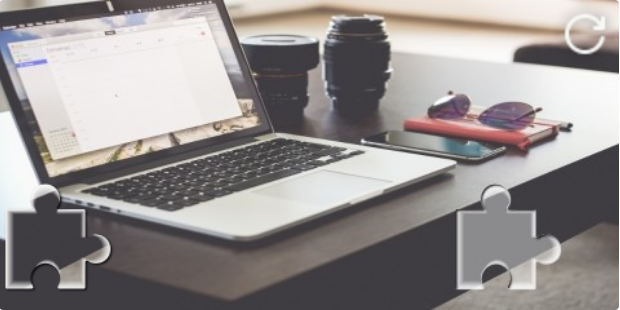target: (457, 184, 563, 290)
